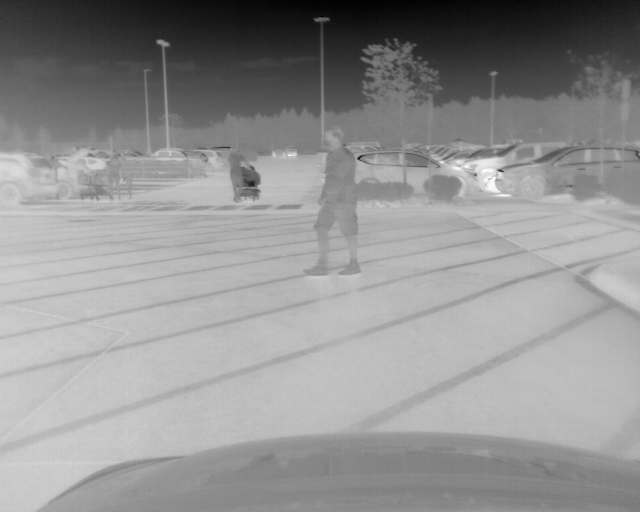car: (497, 143, 640, 201), (458, 141, 589, 193), (352, 149, 479, 201), (2, 152, 60, 208), (54, 160, 97, 202), (148, 146, 208, 164), (203, 148, 224, 172), (271, 144, 300, 159)
people: (301, 125, 364, 277), (228, 147, 251, 204), (105, 154, 122, 202), (120, 156, 134, 198)
